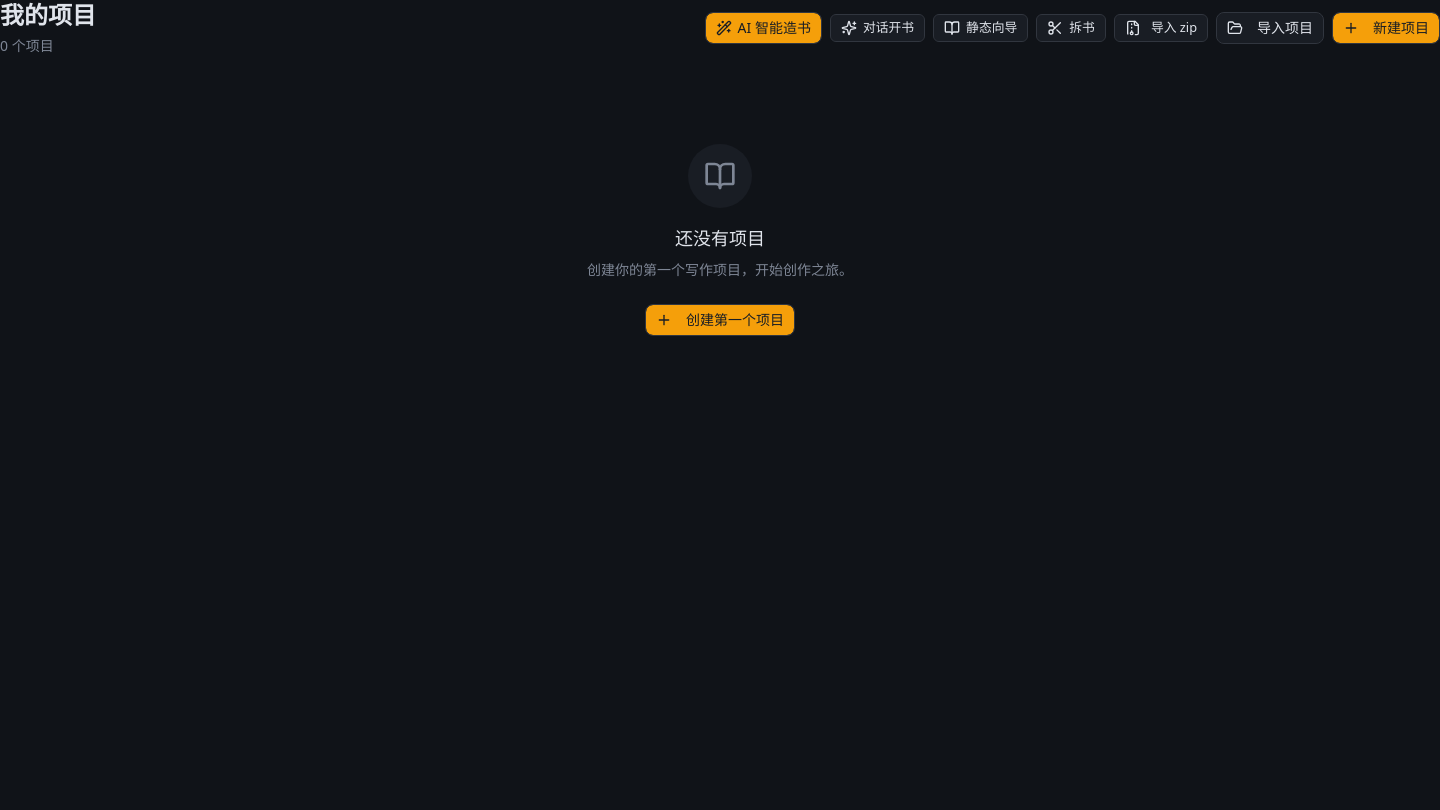
Test case: ProjectHub — import UI › import dialog contains scan input and scan button
Click the button "导入项目". click: click(1270, 28)
box: [1216, 12, 1324, 44]
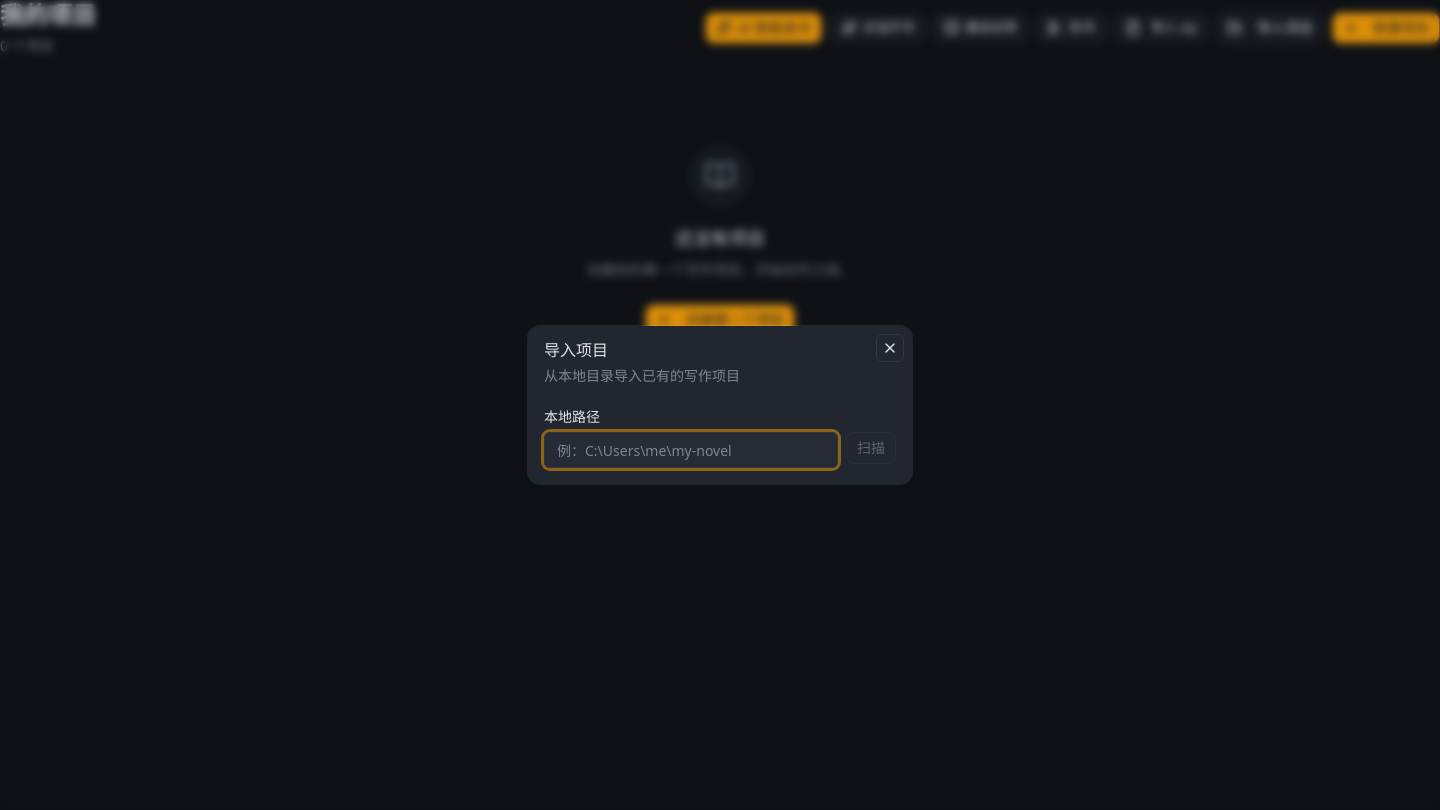
Now the field with placeholder "例：C:\\Users\\me\\my-novel" is shown, box [544, 432, 838, 468]
Now the button "扫描" is shown, box [846, 432, 896, 464]
